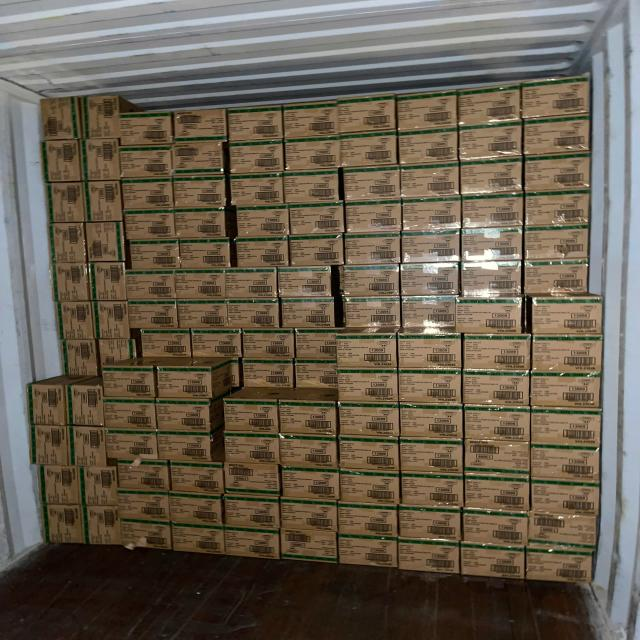Carton: (522, 73, 592, 119), (524, 112, 590, 158), (530, 295, 604, 336), (530, 404, 602, 446), (455, 294, 525, 336), (525, 187, 592, 230), (527, 511, 598, 551), (457, 82, 521, 126), (529, 476, 601, 515), (531, 442, 601, 482), (524, 151, 592, 192), (532, 339, 604, 377), (523, 258, 593, 297), (396, 88, 458, 132), (463, 404, 531, 444), (458, 120, 523, 161), (523, 222, 591, 261), (458, 156, 524, 196), (400, 160, 461, 203), (525, 551, 593, 589), (460, 258, 523, 299), (400, 436, 464, 476), (462, 190, 526, 230), (529, 375, 602, 410), (464, 440, 531, 478), (458, 226, 524, 264), (338, 434, 399, 475), (463, 371, 532, 407), (336, 92, 398, 132), (463, 478, 531, 514), (399, 401, 463, 439), (224, 522, 283, 563), (461, 338, 531, 372), (334, 367, 398, 404), (334, 331, 398, 368), (278, 399, 338, 438), (280, 432, 340, 471), (401, 195, 461, 233), (400, 296, 460, 334), (279, 495, 339, 533), (461, 514, 528, 548), (460, 548, 527, 582), (337, 400, 400, 436), (398, 509, 462, 544), (399, 370, 463, 405), (287, 199, 347, 236), (342, 197, 400, 235), (120, 175, 176, 214), (341, 165, 400, 202), (115, 110, 174, 147), (280, 527, 339, 564), (222, 398, 279, 436), (223, 492, 280, 530), (400, 261, 460, 297), (282, 168, 342, 204), (397, 337, 462, 370), (397, 543, 460, 577), (400, 229, 461, 264), (398, 132, 459, 167), (172, 174, 228, 212), (341, 294, 398, 331), (400, 478, 465, 510), (228, 171, 284, 208), (343, 230, 400, 266), (340, 134, 398, 169), (101, 396, 159, 431), (115, 486, 173, 521), (174, 206, 230, 242), (114, 458, 170, 494), (338, 474, 399, 507), (243, 326, 297, 363), (223, 430, 280, 465), (276, 266, 334, 300), (222, 266, 280, 300), (234, 203, 290, 238), (338, 266, 399, 298), (337, 508, 398, 540), (284, 100, 338, 136), (123, 206, 177, 242), (234, 234, 289, 269), (280, 295, 335, 330), (337, 537, 397, 569), (289, 232, 347, 265), (280, 471, 338, 504), (157, 429, 213, 463), (103, 426, 159, 460), (172, 141, 226, 176), (224, 298, 284, 329), (224, 464, 282, 496), (230, 142, 286, 175), (167, 496, 223, 529), (170, 521, 224, 555), (120, 146, 174, 180), (156, 370, 213, 402), (156, 403, 213, 435), (139, 327, 192, 361), (68, 424, 108, 469), (284, 139, 342, 170), (230, 113, 286, 145), (126, 267, 176, 302), (168, 466, 224, 497), (177, 237, 233, 268), (173, 110, 227, 142), (103, 370, 158, 401), (173, 268, 226, 300), (176, 298, 230, 329), (127, 237, 179, 269), (119, 520, 172, 551), (190, 327, 242, 358), (82, 466, 120, 508), (86, 94, 120, 140), (41, 95, 75, 141), (47, 142, 84, 184), (31, 384, 68, 426), (46, 467, 84, 507), (86, 138, 120, 182), (47, 506, 86, 544), (34, 425, 70, 466), (242, 361, 296, 388), (176, 272, 228, 300), (70, 383, 103, 427), (56, 263, 92, 303), (88, 180, 122, 222), (86, 508, 122, 547), (87, 224, 122, 264), (52, 183, 86, 224), (54, 224, 88, 265), (128, 302, 177, 330), (92, 263, 126, 303), (294, 331, 340, 359), (61, 302, 94, 340), (96, 302, 129, 340)
